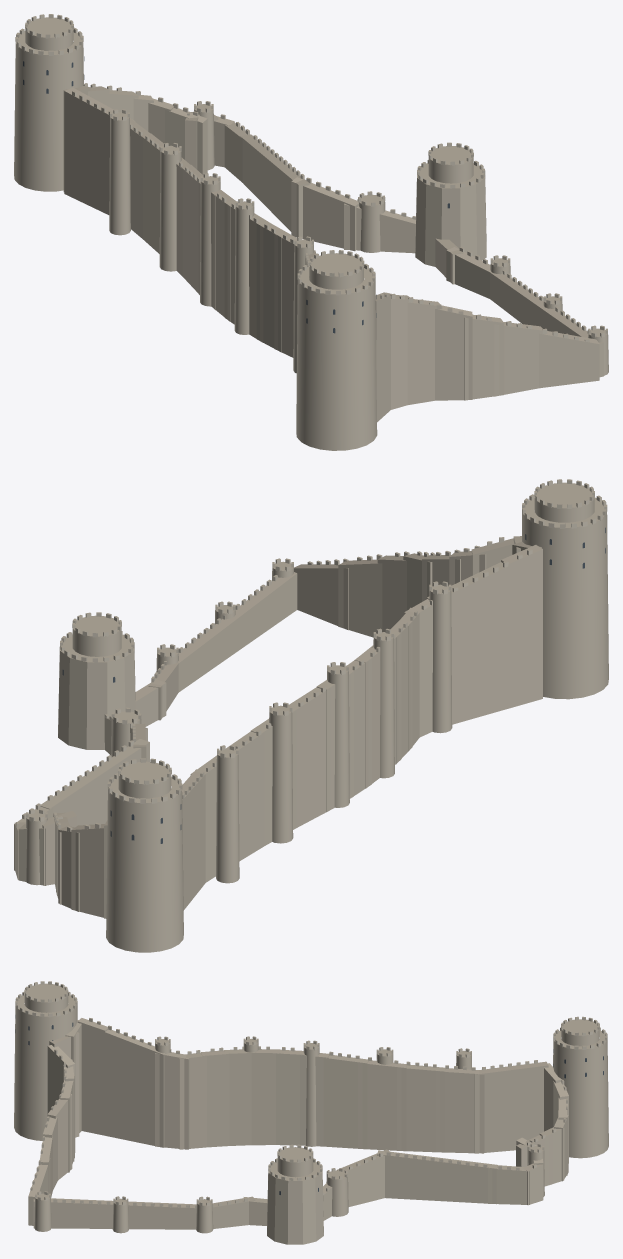
File: istanbul-rumeli-hisari.glb
3 renders of one model, top to bottom at view 1: azimuth 30°, elevation 25°; view 2: azimuth 150°, elevation 25°; view 3: azimuth 270°, elevation 25°, orthographic. The views are drawn at different scales.
Parts seen in each view (by area): view 1: Rumeli Hisarı; view 2: Rumeli Hisarı; view 3: Rumeli Hisarı.
Part boxes in pixels (x1,y1,x2,y2): Rumeli Hisarı: (14, 14, 608, 450); Rumeli Hisarı: (14, 479, 608, 952); Rumeli Hisarı: (14, 981, 608, 1244).
Size of the model in its own units: 133 by 65.02 by 256.
